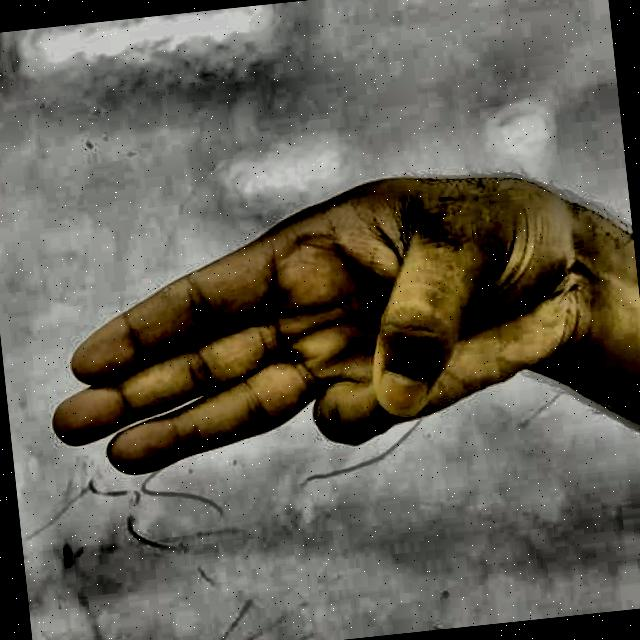Ma: (16, 149, 632, 523)
